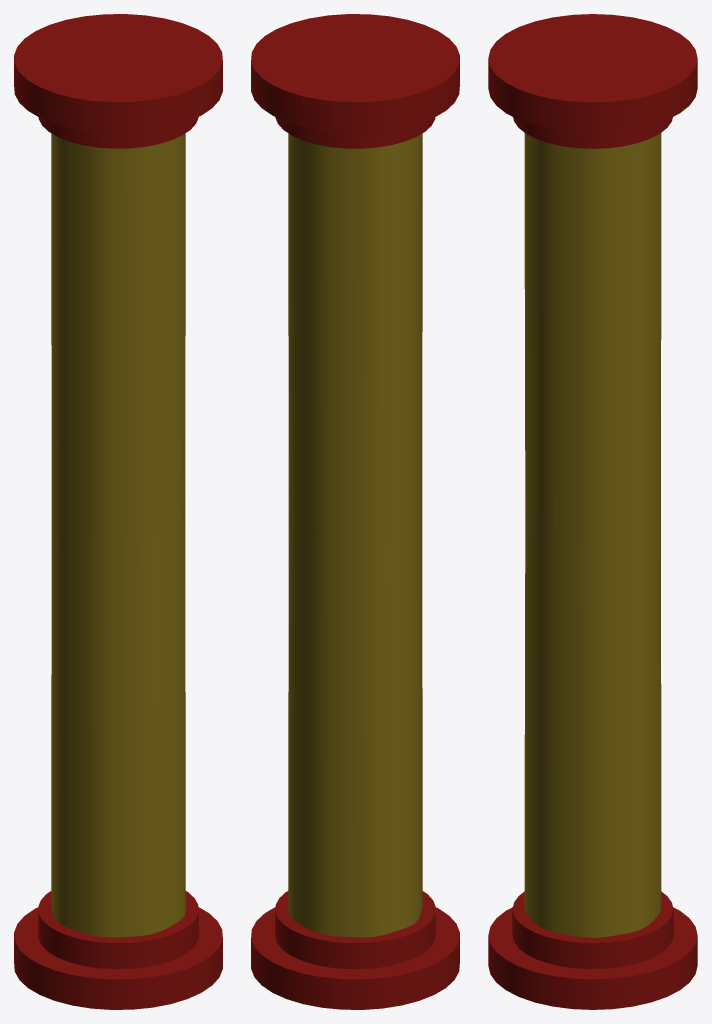
File: pillar.fbx
The picture shows the model from 3 angles, left to right: view 1: azimuth 30°, elevation 25°; view 2: azimuth 150°, elevation 25°; view 3: azimuth 270°, elevation 25°; orthographic projection.
Parts seen in each view (by area): view 1: Cylinder_Pillar; view 2: Cylinder_Pillar; view 3: Cylinder_Pillar.
Part boxes in pixels (x1,y1,x2,y2): Cylinder_Pillar: (14, 14, 222, 1009); Cylinder_Pillar: (251, 14, 459, 1009); Cylinder_Pillar: (488, 14, 697, 1009).
Bounding box in the file's own units: 229 × 1094 × 229.
